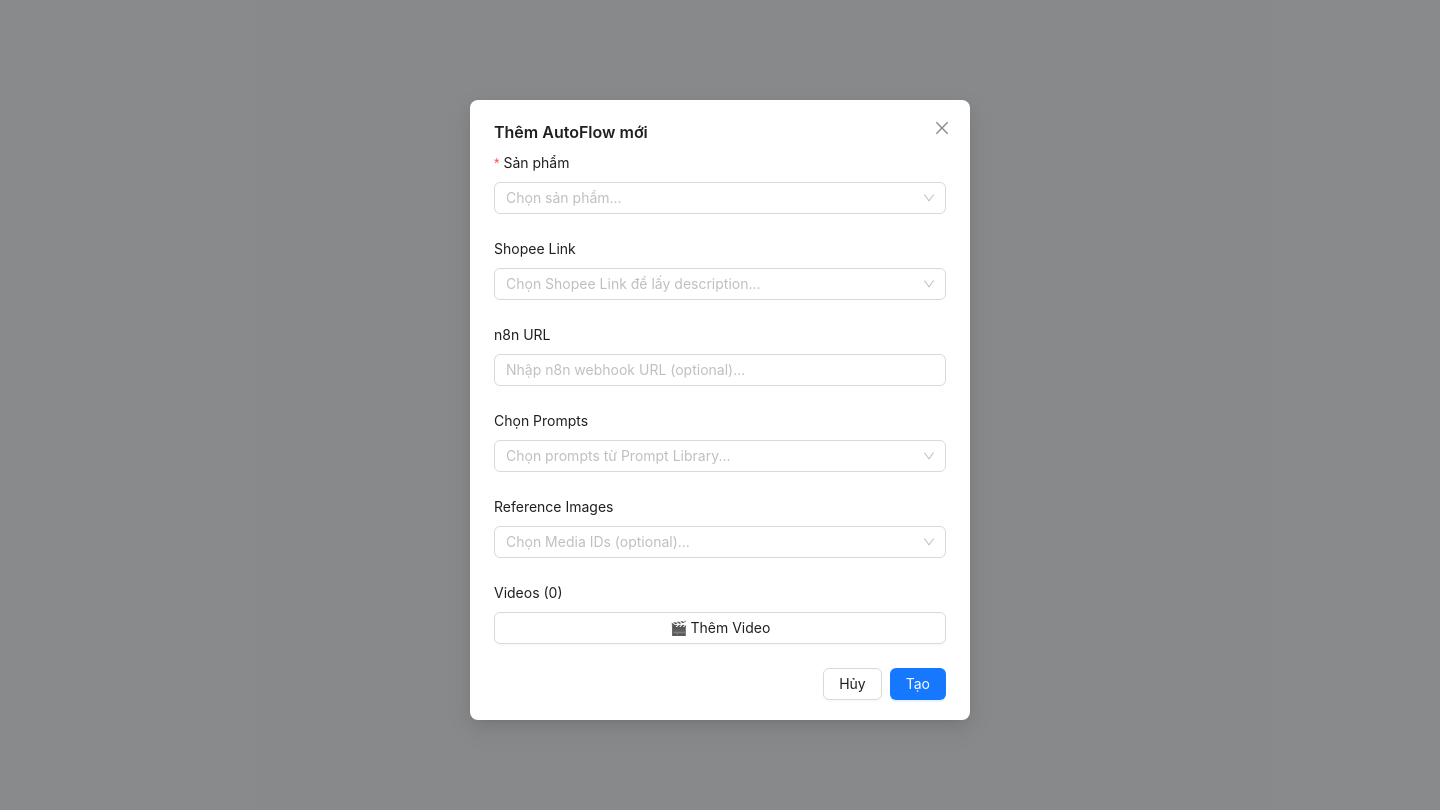
Scenario: AutoFlowModal › shows shopee link options in dropdown
Press the mouse on the dropdown labelled "Shopee Link" at [711, 284], box [506, 269, 916, 299]
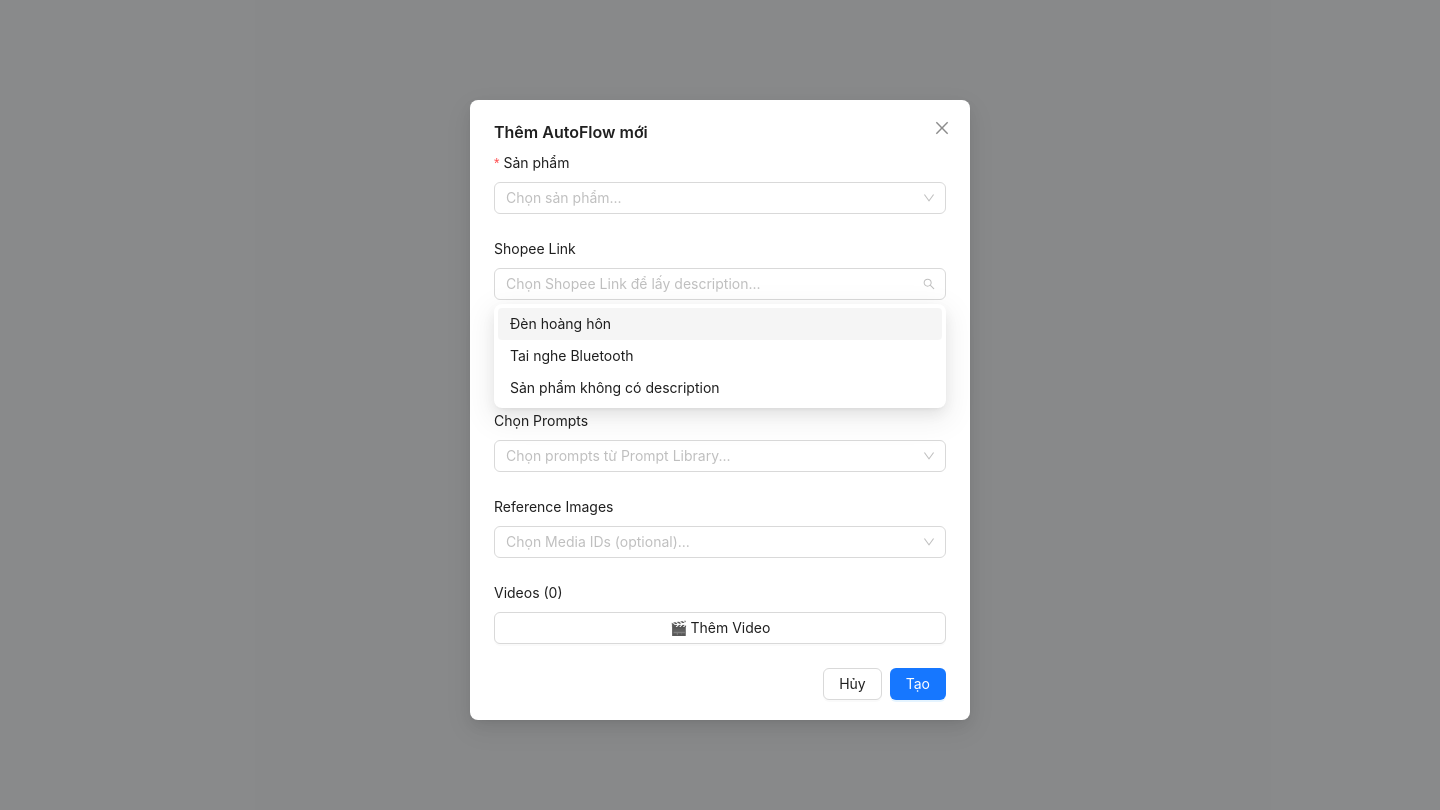
Expected: the element titled "Đèn hoàng hôn" is shown, [498, 308, 942, 340]
Expected: the element titled "Tai nghe Bluetooth" is shown, [510, 347, 634, 364]
Expected: the element titled "Sản phẩm không có description" is shown, [510, 379, 720, 396]
